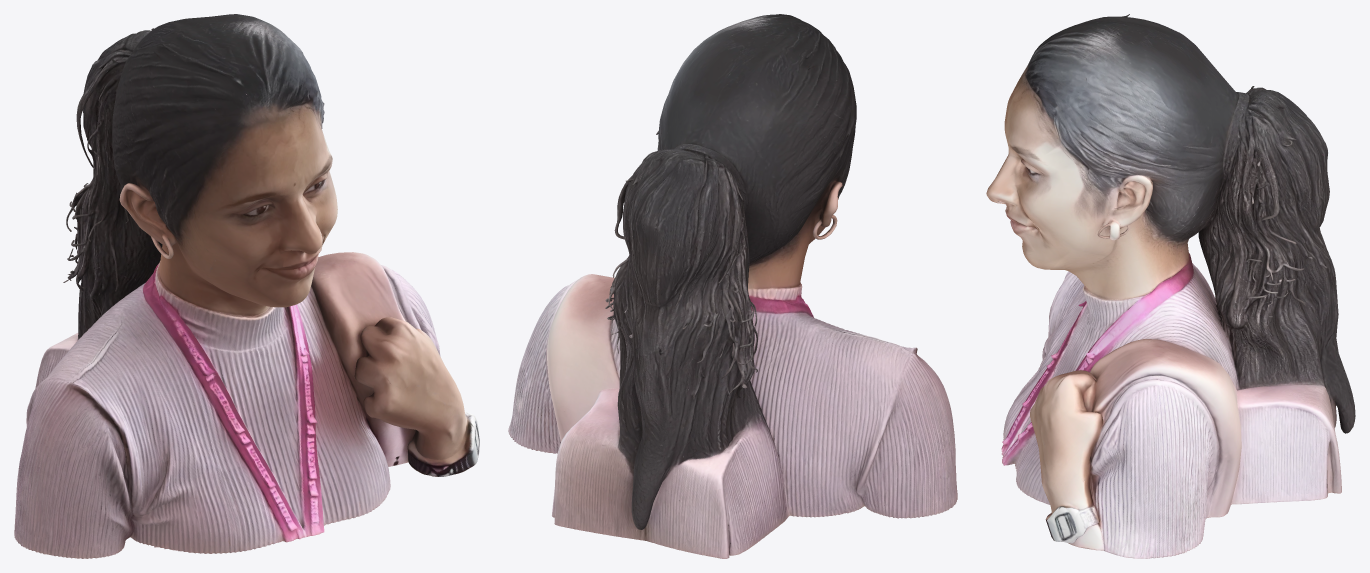
File: sreekutty_shaded.glb
3 views of the same model, side by side, from view 1: azimuth 30°, elevation 25°; view 2: azimuth 150°, elevation 25°; view 3: azimuth 270°, elevation 25° (orthographic). The views are drawn at different scales.
Visible parts, largest first — view 1: model; view 2: model; view 3: model.
Part boxes in pixels (bbox=[...]): model: bbox=[14, 14, 479, 558]; model: bbox=[508, 14, 957, 558]; model: bbox=[986, 14, 1355, 558].
Size of the model in its own units: 1.9 by 1.88 by 1.49.
1 material, 1 textured.
